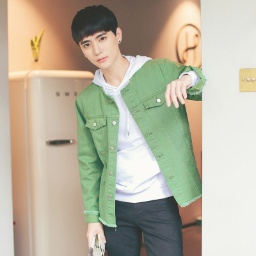face: (68, 3, 124, 71)
